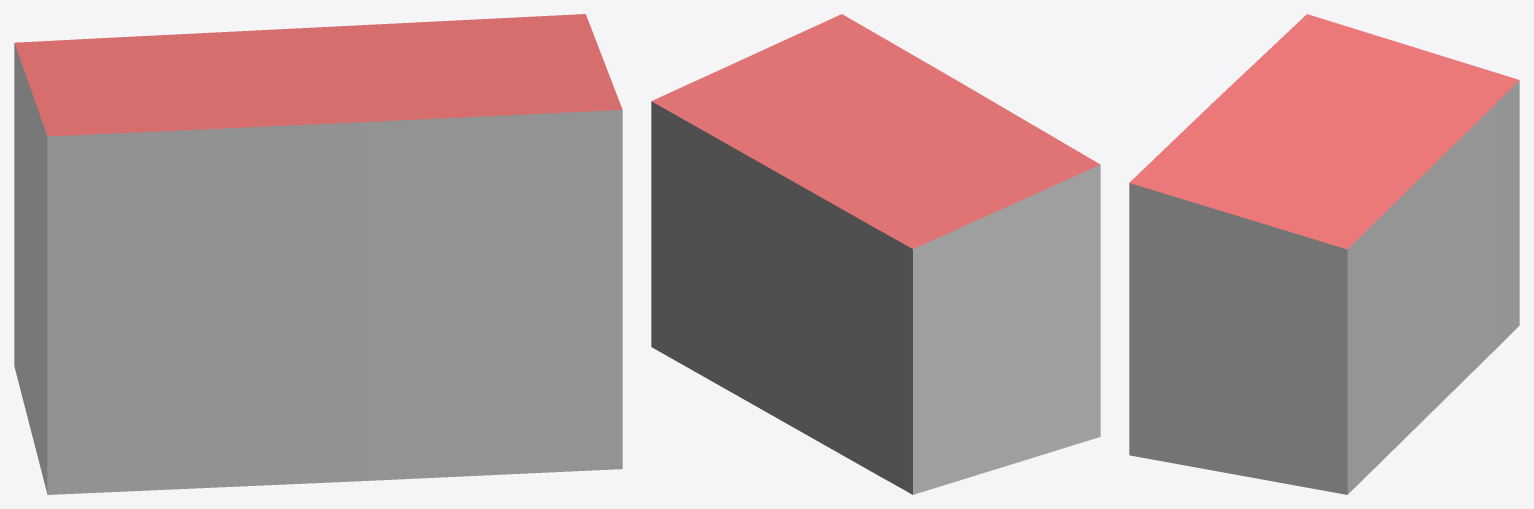
File: DEBY_LOD2_4908039.gltf
3 renders of one model, left to right at view 1: azimuth 30°, elevation 25°; view 2: azimuth 150°, elevation 25°; view 3: azimuth 270°, elevation 25°, orthographic. The views are drawn at different scales.
Parts seen in each view (by area): view 1: Z_UP; view 2: Z_UP; view 3: Z_UP.
Boxes of the visible parts, left/top/right/bottom form: Z_UP: left=14, top=14, right=622, bottom=494; Z_UP: left=651, top=14, right=1100, bottom=494; Z_UP: left=1129, top=14, right=1519, bottom=494.
Bounding box in the file's own units: 12.24 × 7.44 × 9.66.
